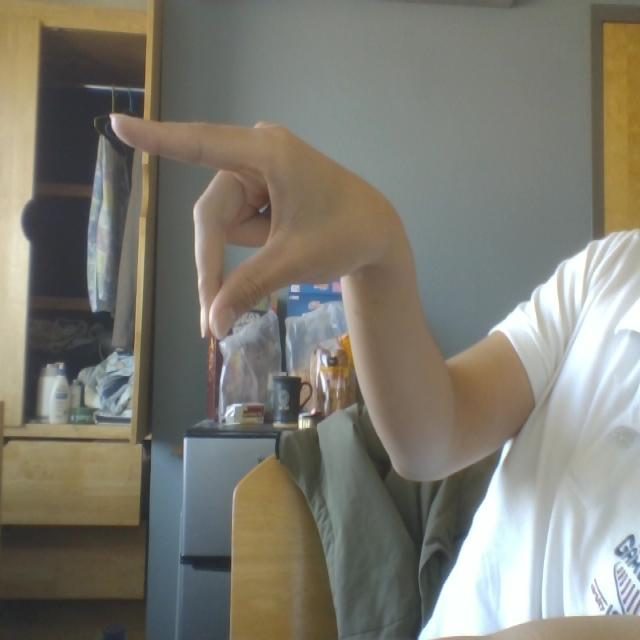P: (112, 58, 427, 384)
